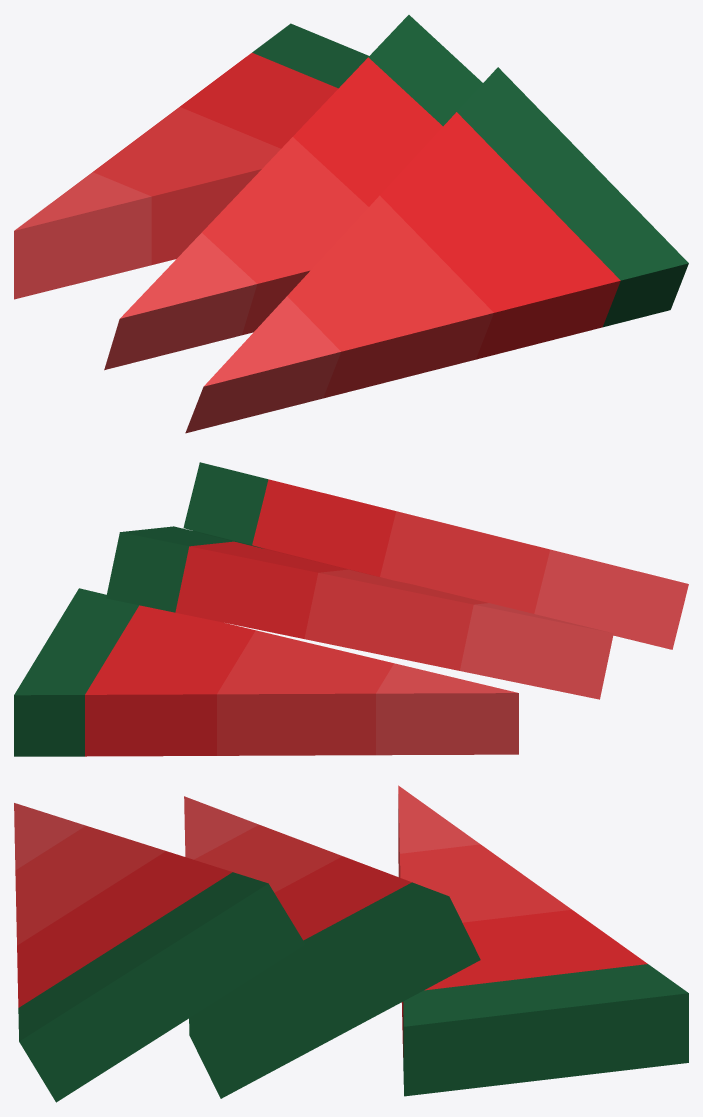
Rendered from Watermelon Slice.fbx.
The picture shows the model from 3 angles, top to bottom: view 1: azimuth 30°, elevation 25°; view 2: azimuth 150°, elevation 25°; view 3: azimuth 270°, elevation 25°; orthographic projection. The views are drawn at different scales.
Visible parts, largest first — view 1: Watermelon Slice.002, Watermelon Slice.001, Watermelon Slice; view 2: Watermelon Slice, Watermelon Slice.001, Watermelon Slice.002; view 3: Watermelon Slice.002, Watermelon Slice, Watermelon Slice.001.
Boxes of the visible parts, box(x1,y1,x2,y2) form: Watermelon Slice.002: box(185, 67, 688, 433); Watermelon Slice.001: box(104, 15, 482, 370); Watermelon Slice: box(14, 23, 368, 299); Watermelon Slice: box(14, 588, 518, 756); Watermelon Slice.001: box(106, 526, 613, 699); Watermelon Slice.002: box(183, 462, 688, 649); Watermelon Slice.002: box(14, 803, 305, 1102); Watermelon Slice: box(398, 785, 688, 1096); Watermelon Slice.001: box(184, 796, 480, 1098).
Bounding box in the file's own units: 11.15 × 4.05 × 13.18.
